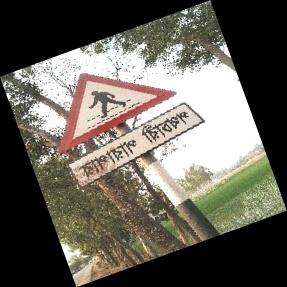Pedestrian-crossing: (57, 72, 203, 191)
